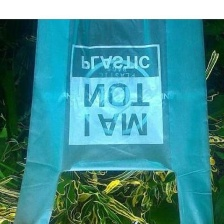plastic_bag: (10, 15, 215, 224)
